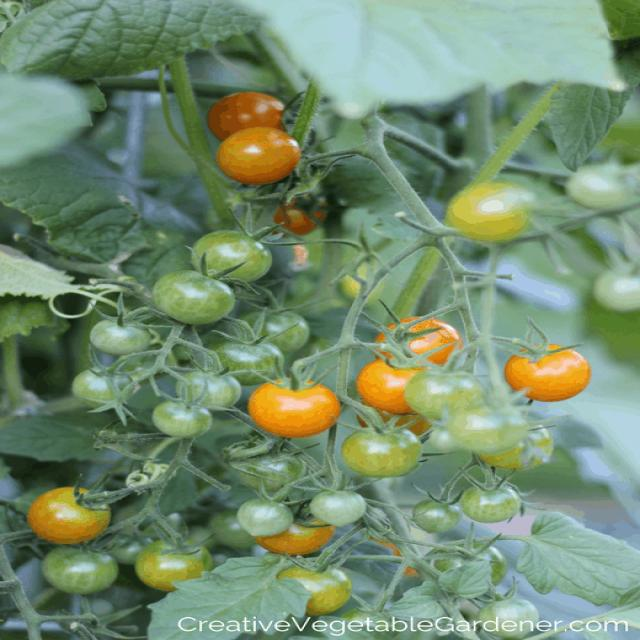level 1: (230, 308, 313, 358), (211, 339, 285, 384)
level 2: (222, 436, 311, 492), (189, 229, 272, 283), (570, 158, 640, 213), (156, 270, 229, 319), (86, 315, 156, 354), (177, 368, 242, 409), (480, 599, 544, 638), (462, 482, 524, 522), (308, 490, 372, 528), (154, 404, 218, 439), (234, 499, 290, 539), (72, 371, 130, 406), (411, 498, 464, 535), (597, 269, 640, 314)
level 3: (448, 184, 536, 242), (140, 538, 216, 590), (345, 424, 413, 480), (276, 568, 356, 612)
level 4: (28, 486, 111, 544), (271, 203, 323, 236)
level 5: (250, 377, 340, 437), (506, 344, 594, 404), (359, 357, 449, 412), (220, 128, 305, 184), (380, 315, 464, 369), (210, 93, 296, 141)
